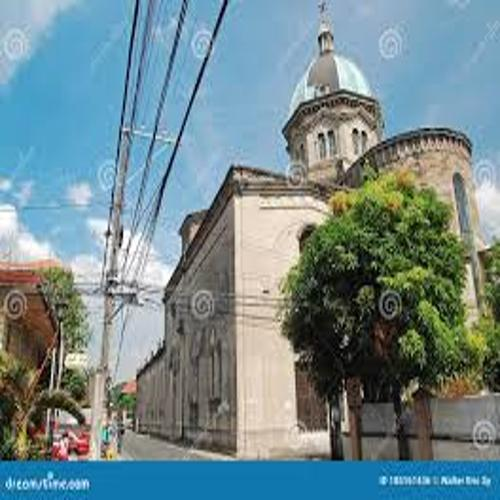Manila Cathedral Church: (128, 8, 494, 453)
